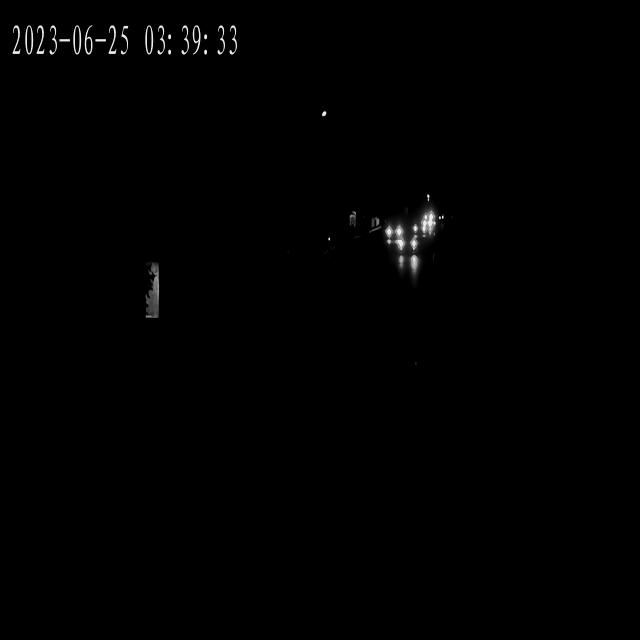Car: (395, 230, 419, 260), (419, 207, 435, 234), (386, 218, 402, 243)
